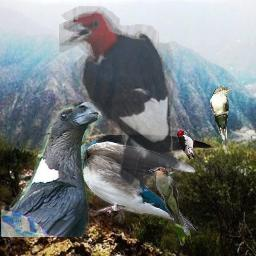Crow: (1, 102, 103, 237)
Cuckoo: (149, 167, 191, 246), (210, 86, 232, 155)
Swallow: (48, 131, 214, 233)
Woodpecker: (59, 4, 188, 188), (177, 130, 196, 161)
